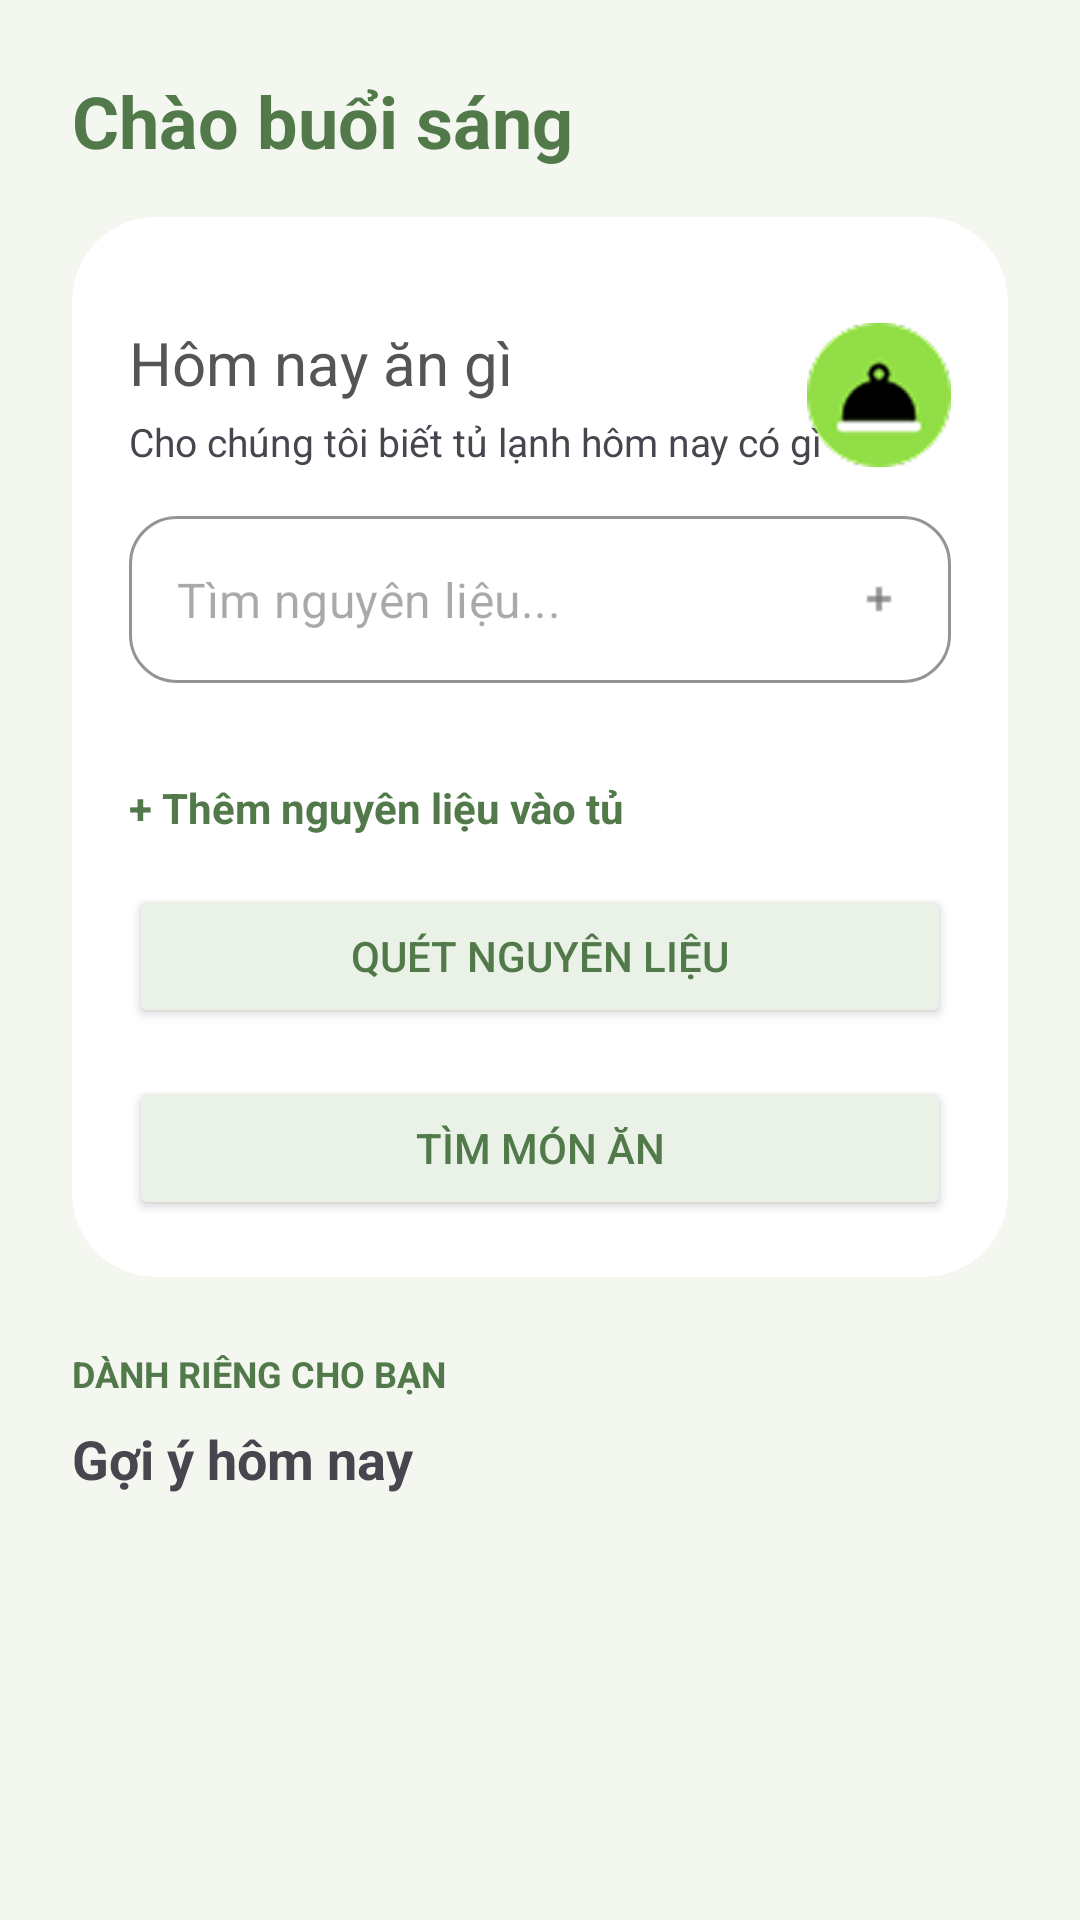

Screen size 1080x1920. Icon name, then its box in pixels as (x1, y1, x2, y2):
fooddome: (807, 323, 951, 467)
